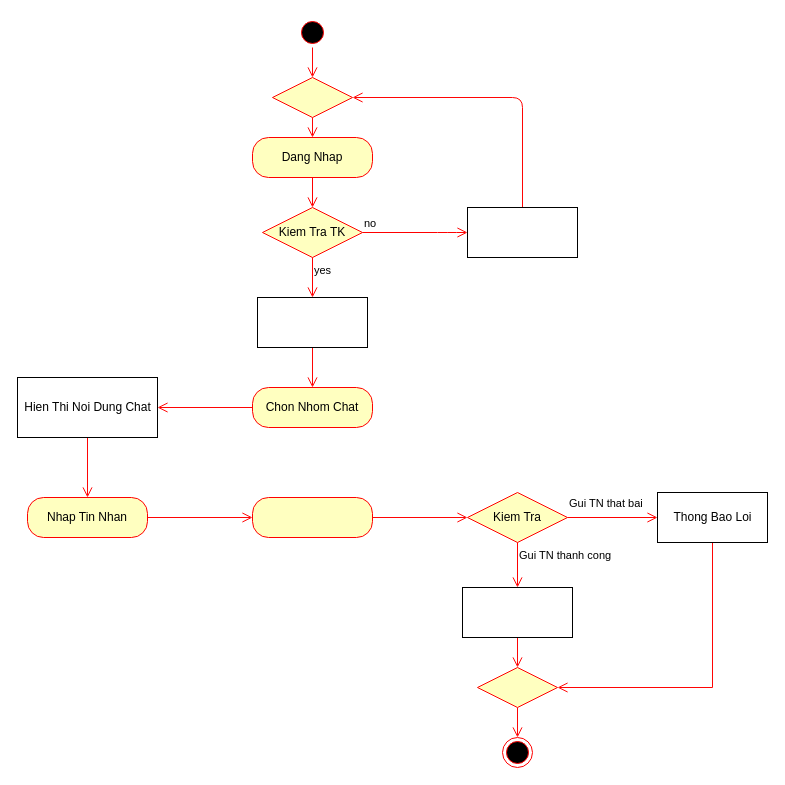
Image size: 785x785. Some labels were removed from this diagram. The shapes that lost their labels are listed below. From the top down, each one's box as (x1, y1, x2, y2) in pixels, then its label:
(466, 206, 578, 258): Thong Bao Sai
(256, 296, 368, 348): Hien Thi Trang Chu
(252, 496, 372, 538): Gui Tin Nhan
(462, 586, 572, 638): Hien Thi Tin Nhan Da Gui Di
